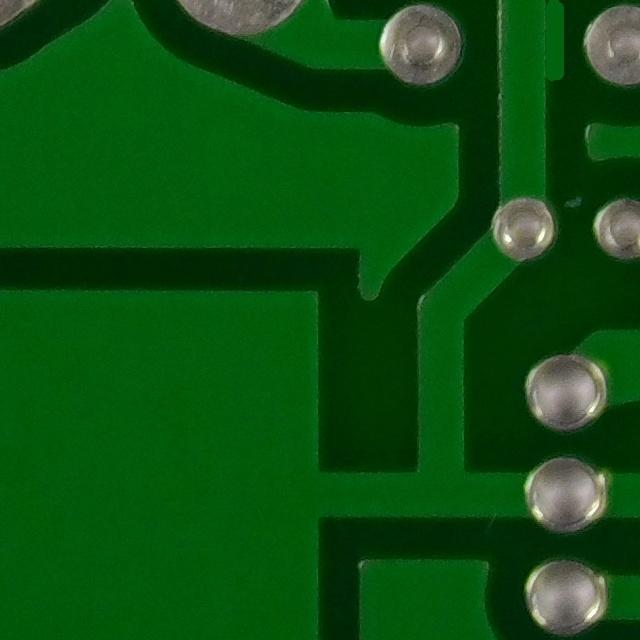spur: (510, 0, 577, 99)
